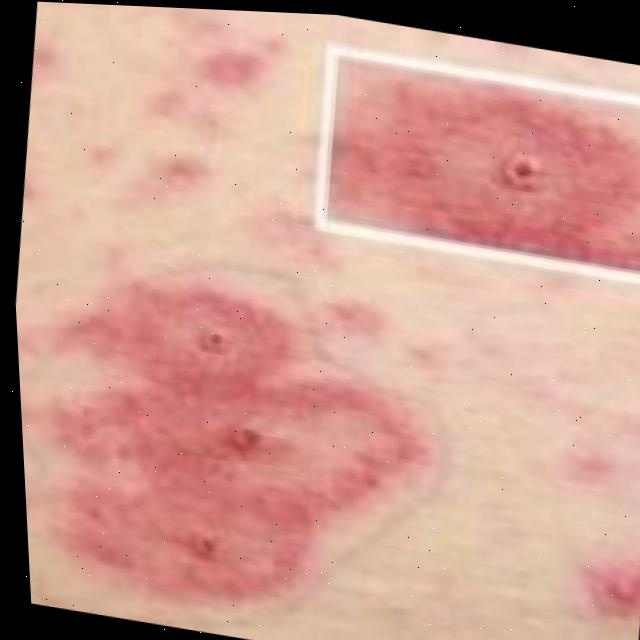Eczema: (52, 278, 386, 591), (375, 77, 622, 277)
